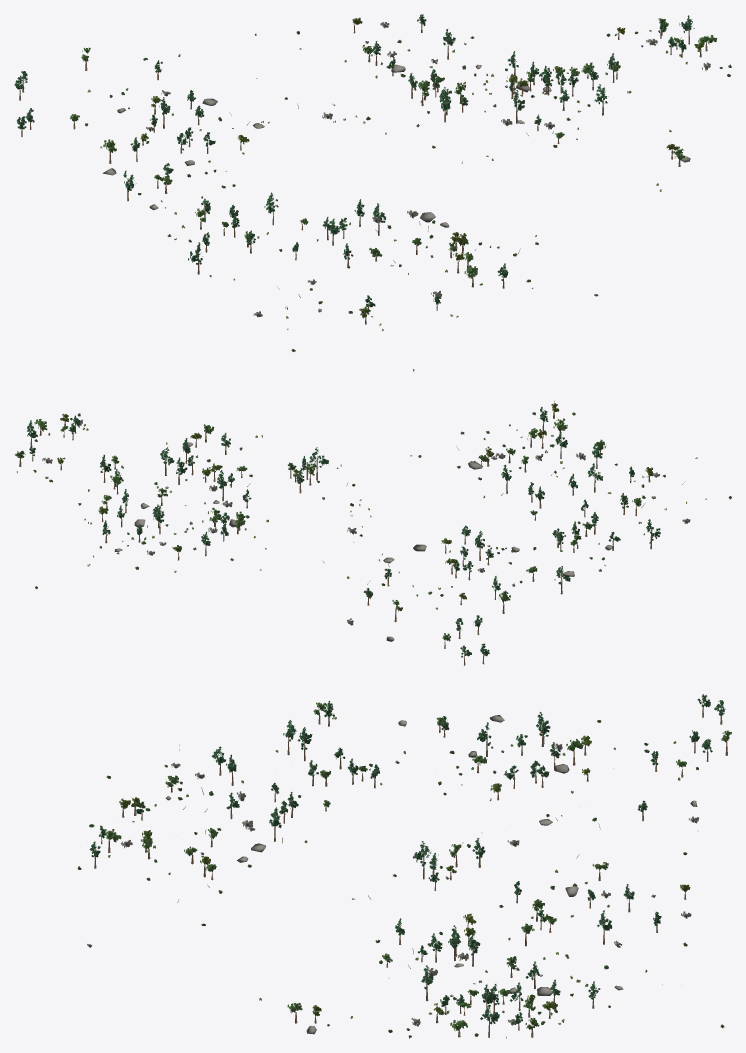
Rendered from arch_land_scatter_c18_18.glb.
3 views of the same model, one above another, from view 1: azimuth 30°, elevation 25°; view 2: azimuth 150°, elevation 25°; view 3: azimuth 270°, elevation 25° (orthographic). The views are drawn at different scales.
Parts seen in each view (by area): view 1: arch_land_scatter_c18_18; view 2: arch_land_scatter_c18_18; view 3: arch_land_scatter_c18_18.
Part boxes in pixels (x1,y1,x2,y2): arch_land_scatter_c18_18: [14, 14, 731, 371]; arch_land_scatter_c18_18: [14, 400, 731, 665]; arch_land_scatter_c18_18: [77, 694, 731, 1038].
Bounding box in the file's own units: 262 × 43.65 × 248.
